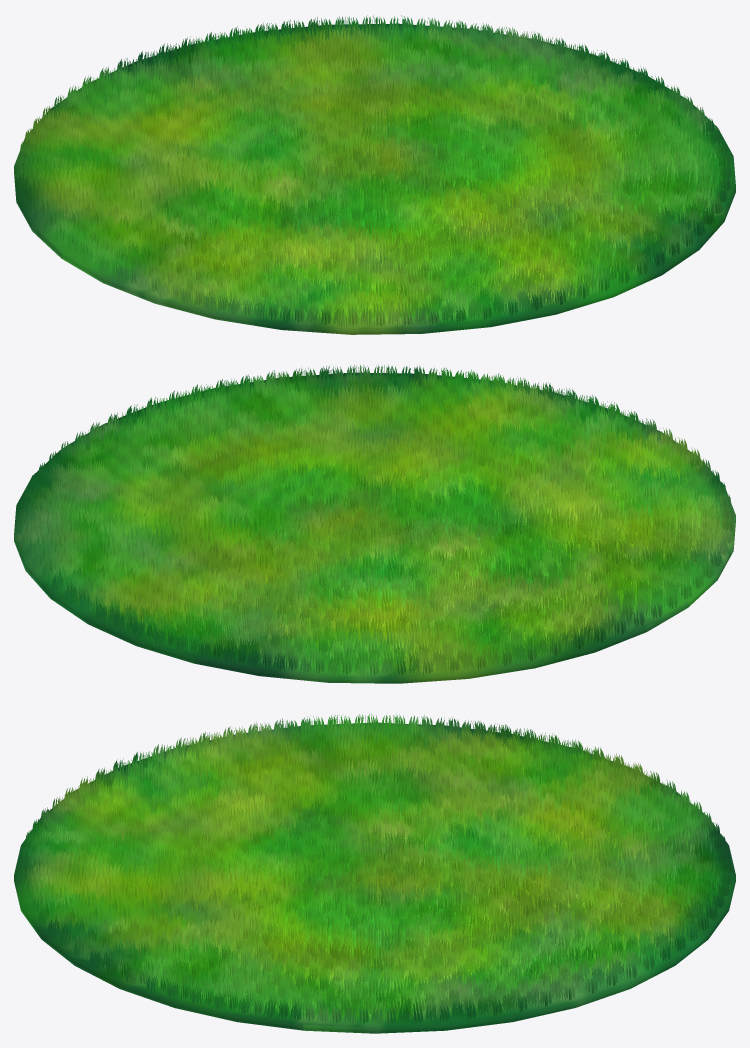
Rendered from grass.glb.
3 renders of one model, top to bottom at view 1: azimuth 30°, elevation 25°; view 2: azimuth 150°, elevation 25°; view 3: azimuth 270°, elevation 25°, orthographic.
Parts seen in each view (by area): view 1: object 5, Cubo.129, Cubo.129_N00_000_Hair_00_HAIR (Instance)_0.002, Cubo.129_N00_000_Hair_00_HAIR (Instance)_0.001, Cubo.129_N00_000_Hair_00_HAIR (Instance)_0.003; view 2: object 5, Cubo.129, Cubo.129_N00_000_Hair_00_HAIR (Instance)_0.002, Cubo.129_N00_000_Hair_00_HAIR (Instance)_0.001, Cubo.129_N00_000_Hair_00_HAIR (Instance)_0.003; view 3: object 5, Cubo.129, Cubo.129_N00_000_Hair_00_HAIR (Instance)_0.002, Cubo.129_N00_000_Hair_00_HAIR (Instance)_0.001, Cubo.129_N00_000_Hair_00_HAIR (Instance)_0.003.
Boxes of the visible parts, x1,y1,x2,y2 form: object 5: (14, 23, 735, 334); Cubo.129: (15, 15, 731, 326); Cubo.129_N00_000_Hair_00_HAIR (Instance)_0.002: (85, 44, 662, 303); Cubo.129_N00_000_Hair_00_HAIR (Instance)_0.001: (161, 81, 561, 265); Cubo.129_N00_000_Hair_00_HAIR (Instance)_0.003: (60, 34, 687, 318); object 5: (14, 372, 735, 683); Cubo.129: (18, 364, 733, 676); Cubo.129_N00_000_Hair_00_HAIR (Instance)_0.002: (87, 391, 664, 645); Cubo.129_N00_000_Hair_00_HAIR (Instance)_0.001: (188, 429, 589, 614); Cubo.129_N00_000_Hair_00_HAIR (Instance)_0.003: (63, 382, 691, 657); object 5: (14, 722, 735, 1033); Cubo.129: (17, 713, 732, 1024); Cubo.129_N00_000_Hair_00_HAIR (Instance)_0.002: (62, 743, 662, 994); Cubo.129_N00_000_Hair_00_HAIR (Instance)_0.001: (162, 775, 587, 952); Cubo.129_N00_000_Hair_00_HAIR (Instance)_0.003: (71, 732, 687, 1005).
Bounding box in the file's own units: 256 × 7.25 × 256.
2 materials, 2 textured.
